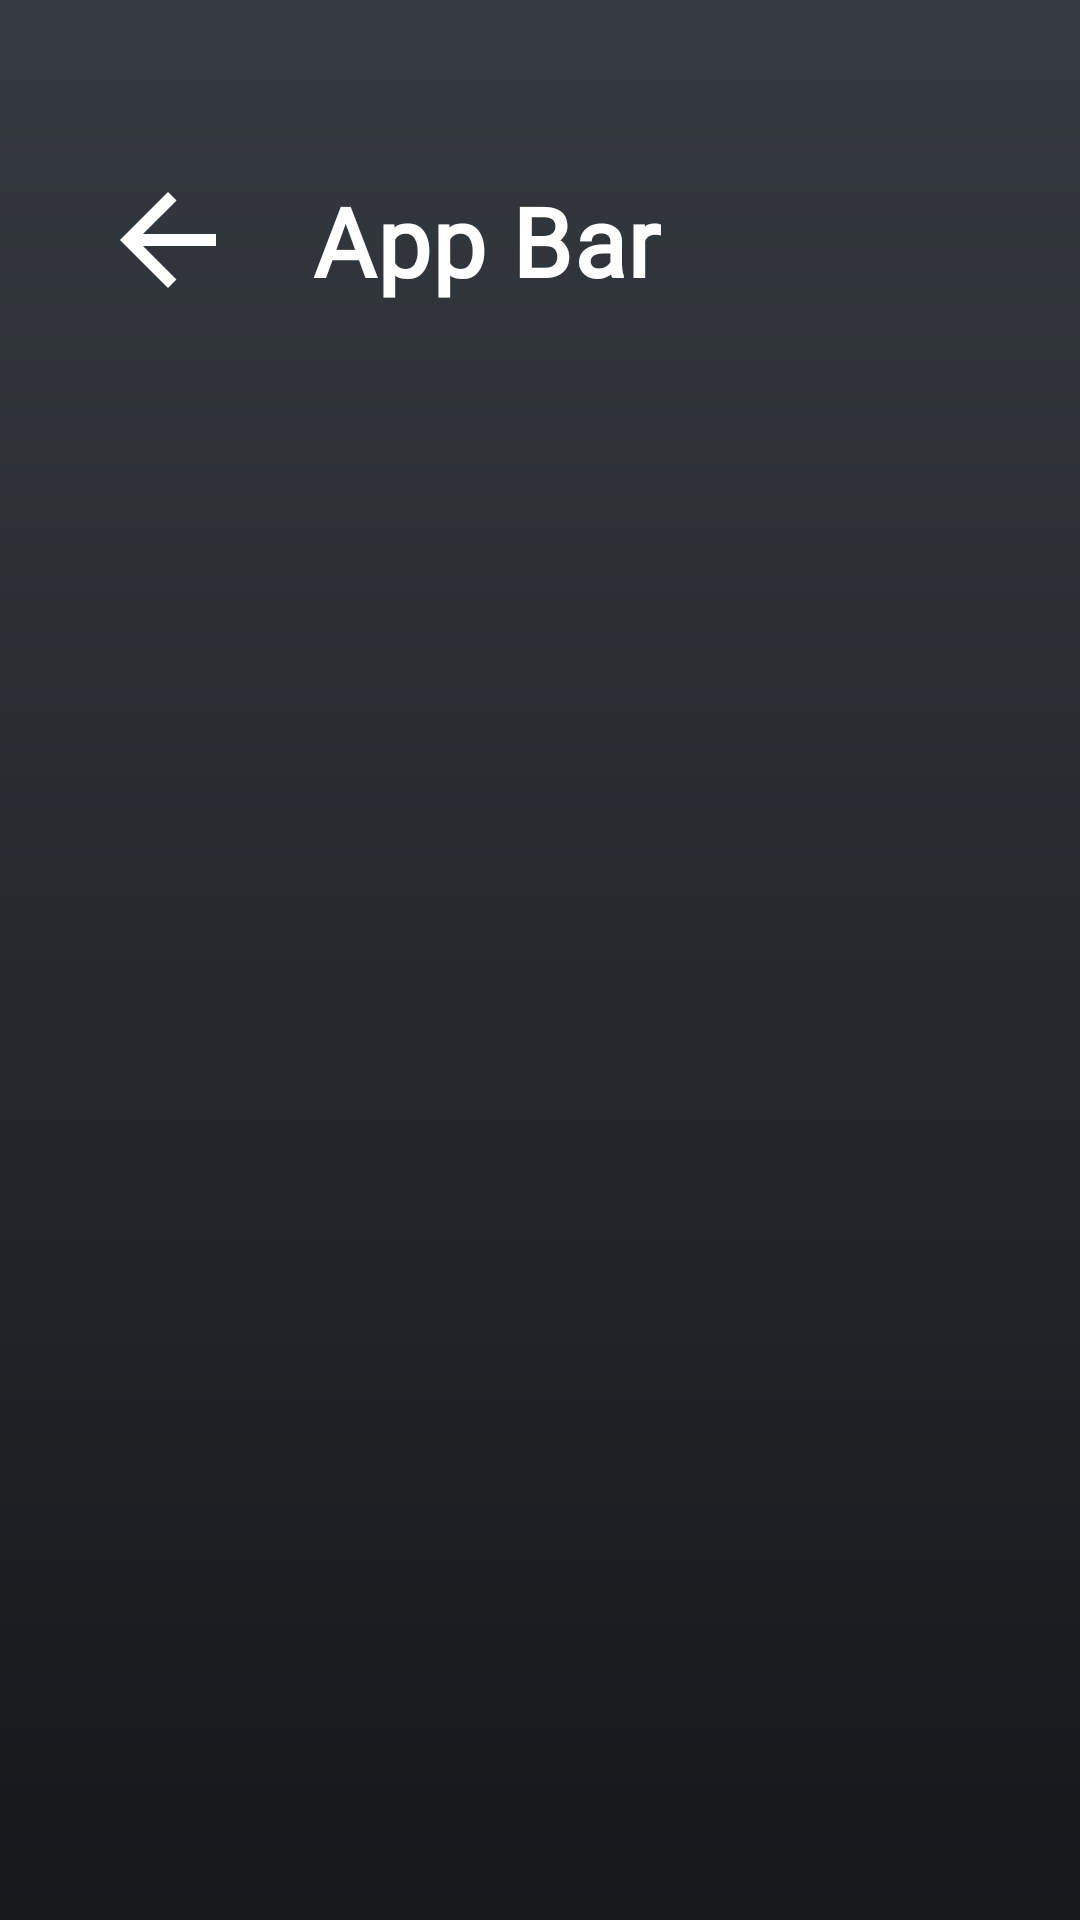

Screen size 1080*1920. Icon name, then its center in pixels as [x,y]:
arrow back: [168,240]
